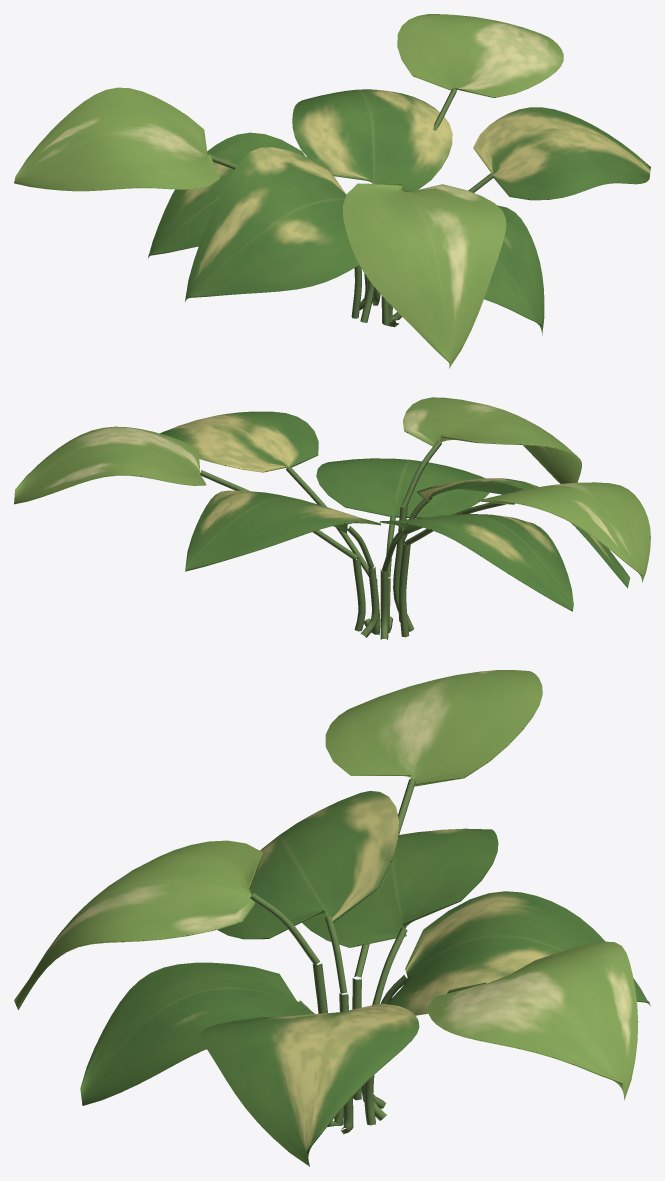
The model's file is pothos-stage-2.glb.
The picture shows the model from 3 angles, top to bottom: view 1: azimuth 30°, elevation 25°; view 2: azimuth 150°, elevation 25°; view 3: azimuth 270°, elevation 25°; orthographic projection. The views are drawn at different scales.
Visible parts, largest first — view 1: Leaf_5, Leaf_2, Leaf_7, Leaf_1, Leaf_3, Leaf_6, Leaf_4, Leaf_0, PlantBranches; view 2: Leaf_6, Leaf_1, Leaf_0, Leaf_4, Leaf_3, Leaf_5, Leaf_7, PlantBranches, Leaf_2; view 3: Leaf_3, Leaf_6, Leaf_7, Leaf_0, Leaf_5, Leaf_2, Leaf_1, Leaf_4, PlantBranches.
Part boxes in pixels (left/top/right/bottom): Leaf_5: left=343, top=183, right=506, bottom=368; Leaf_2: left=185, top=147, right=359, bottom=301; Leaf_7: left=14, top=87, right=219, bottom=191; Leaf_1: left=292, top=89, right=452, bottom=191; Leaf_3: left=473, top=107, right=650, bottom=200; Leaf_6: left=397, top=14, right=563, bottom=97; Leaf_4: left=148, top=132, right=304, bottom=258; Leaf_0: left=484, top=205, right=544, bottom=335; PlantBranches: left=210, top=88, right=493, bottom=327; Leaf_6: left=14, top=426, right=206, bottom=504; Leaf_1: left=185, top=490, right=380, bottom=571; Leaf_0: left=316, top=458, right=489, bottom=518; Leaf_4: left=379, top=514, right=573, bottom=611; Leaf_3: left=160, top=411, right=318, bottom=472; Leaf_5: left=403, top=397, right=581, bottom=483; Leaf_7: left=477, top=482, right=650, bottom=582; PlantBranches: left=200, top=440, right=505, bottom=639; Leaf_2: left=417, top=478, right=629, bottom=588; Leaf_3: left=201, top=1003, right=419, bottom=1166; Leaf_6: left=428, top=941, right=638, bottom=1100; Leaf_7: left=325, top=670, right=542, bottom=786; Leaf_0: left=80, top=962, right=314, bottom=1105; Leaf_5: left=14, top=840, right=263, bottom=1010; Leaf_2: left=217, top=791, right=398, bottom=939; Leaf_1: left=386, top=891, right=650, bottom=1015; Leaf_4: left=302, top=828, right=498, bottom=947; PlantBranches: left=250, top=778, right=485, bottom=1134.
Bounding box in the file's own units: 2.05 × 0.7999 × 1.51.
3 materials, 2 textured.
